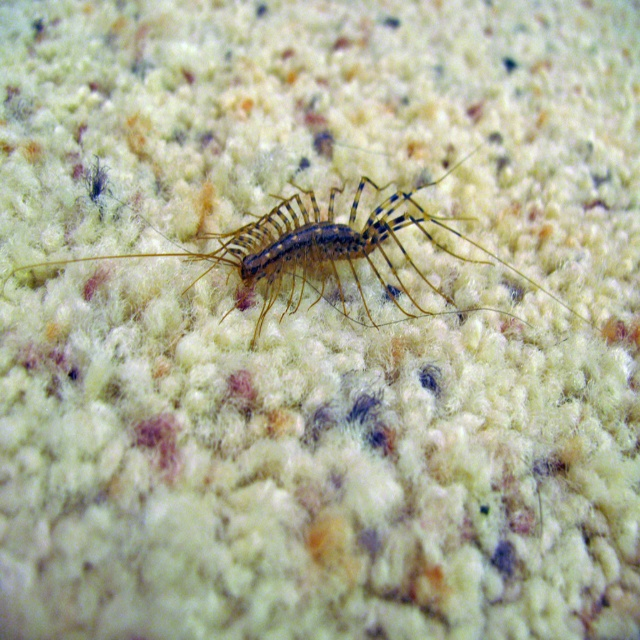Centipede: (8, 142, 610, 354)
